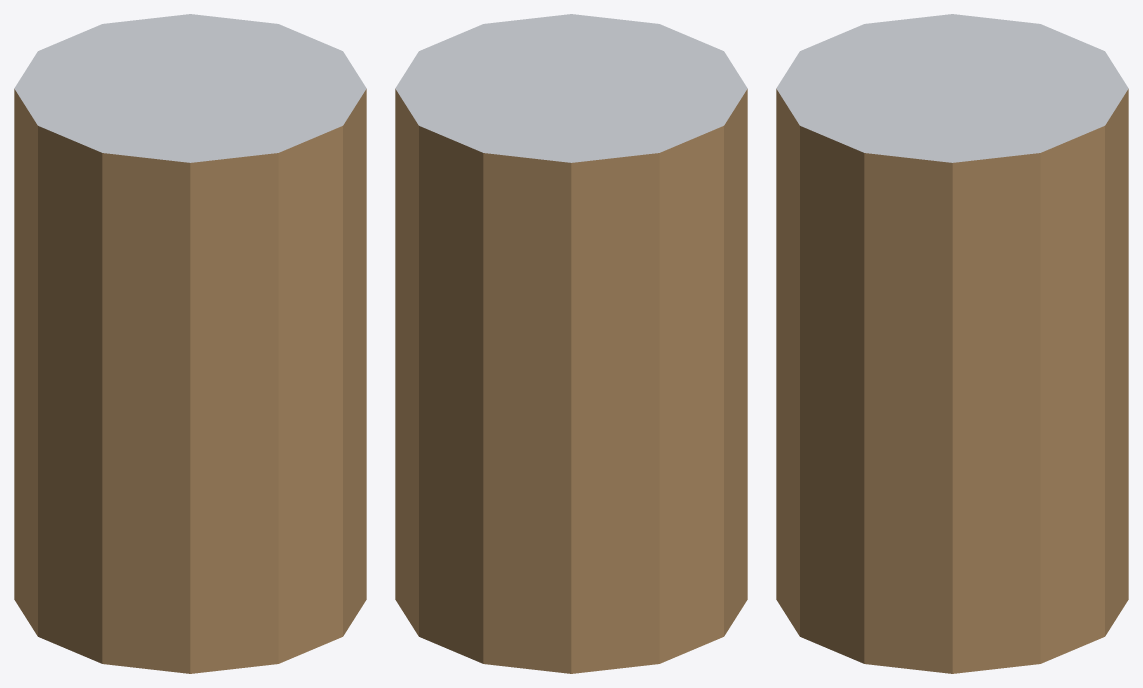
File: barrel.glb
The picture shows the model from 3 angles, left to right: view 1: azimuth 30°, elevation 25°; view 2: azimuth 150°, elevation 25°; view 3: azimuth 270°, elevation 25°; orthographic projection.
Visible parts, largest first — view 1: barrel; view 2: barrel; view 3: barrel.
Part boxes in pixels (x1=…): barrel: x1=14, y1=14, x2=366, y2=673; barrel: x1=395, y1=14, x2=747, y2=673; barrel: x1=776, y1=14, x2=1128, y2=673.
Size of the model in its own units: 1 by 1.6 by 1.
